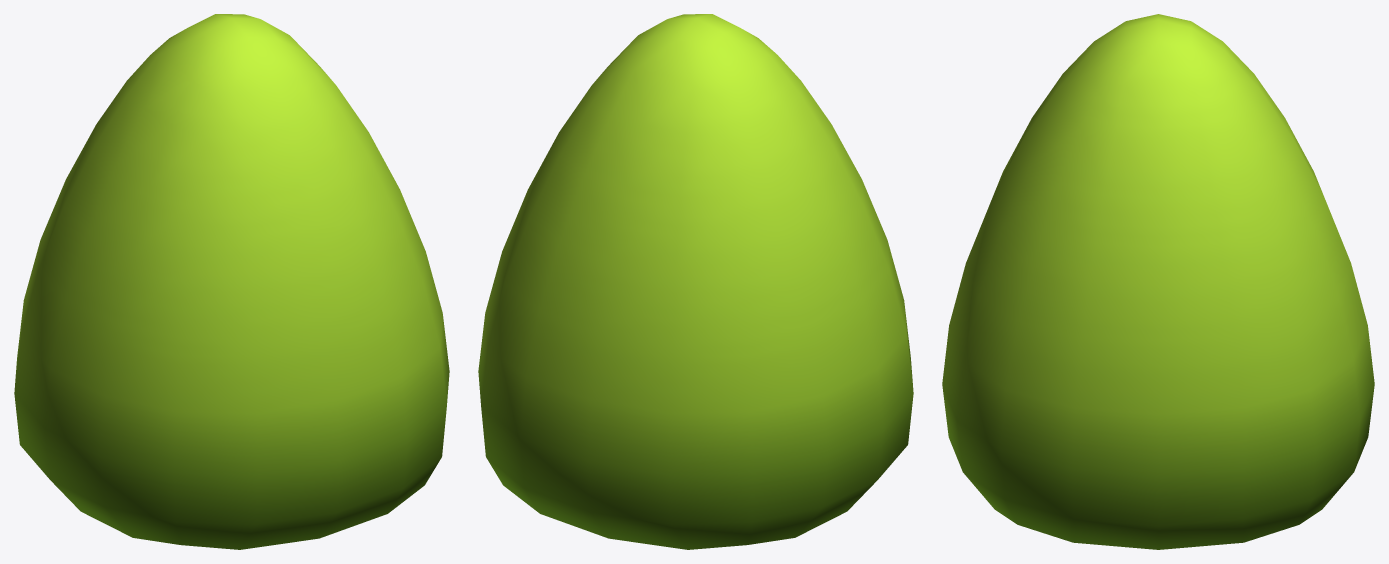
File: Small_Bush.glb
3 renders of one model, left to right at view 1: azimuth 30°, elevation 25°; view 2: azimuth 150°, elevation 25°; view 3: azimuth 270°, elevation 25°, orthographic.
Visible parts, largest first — view 1: small_bush; view 2: small_bush; view 3: small_bush.
Boxes of the visible parts, x1,y1,x2,y2 form: small_bush: (14, 14, 449, 549); small_bush: (478, 14, 913, 549); small_bush: (942, 14, 1374, 549).
Bounding box in the file's own units: 0.6552 × 0.8 × 0.6552.
Materials: 1 (1 with a texture image).
